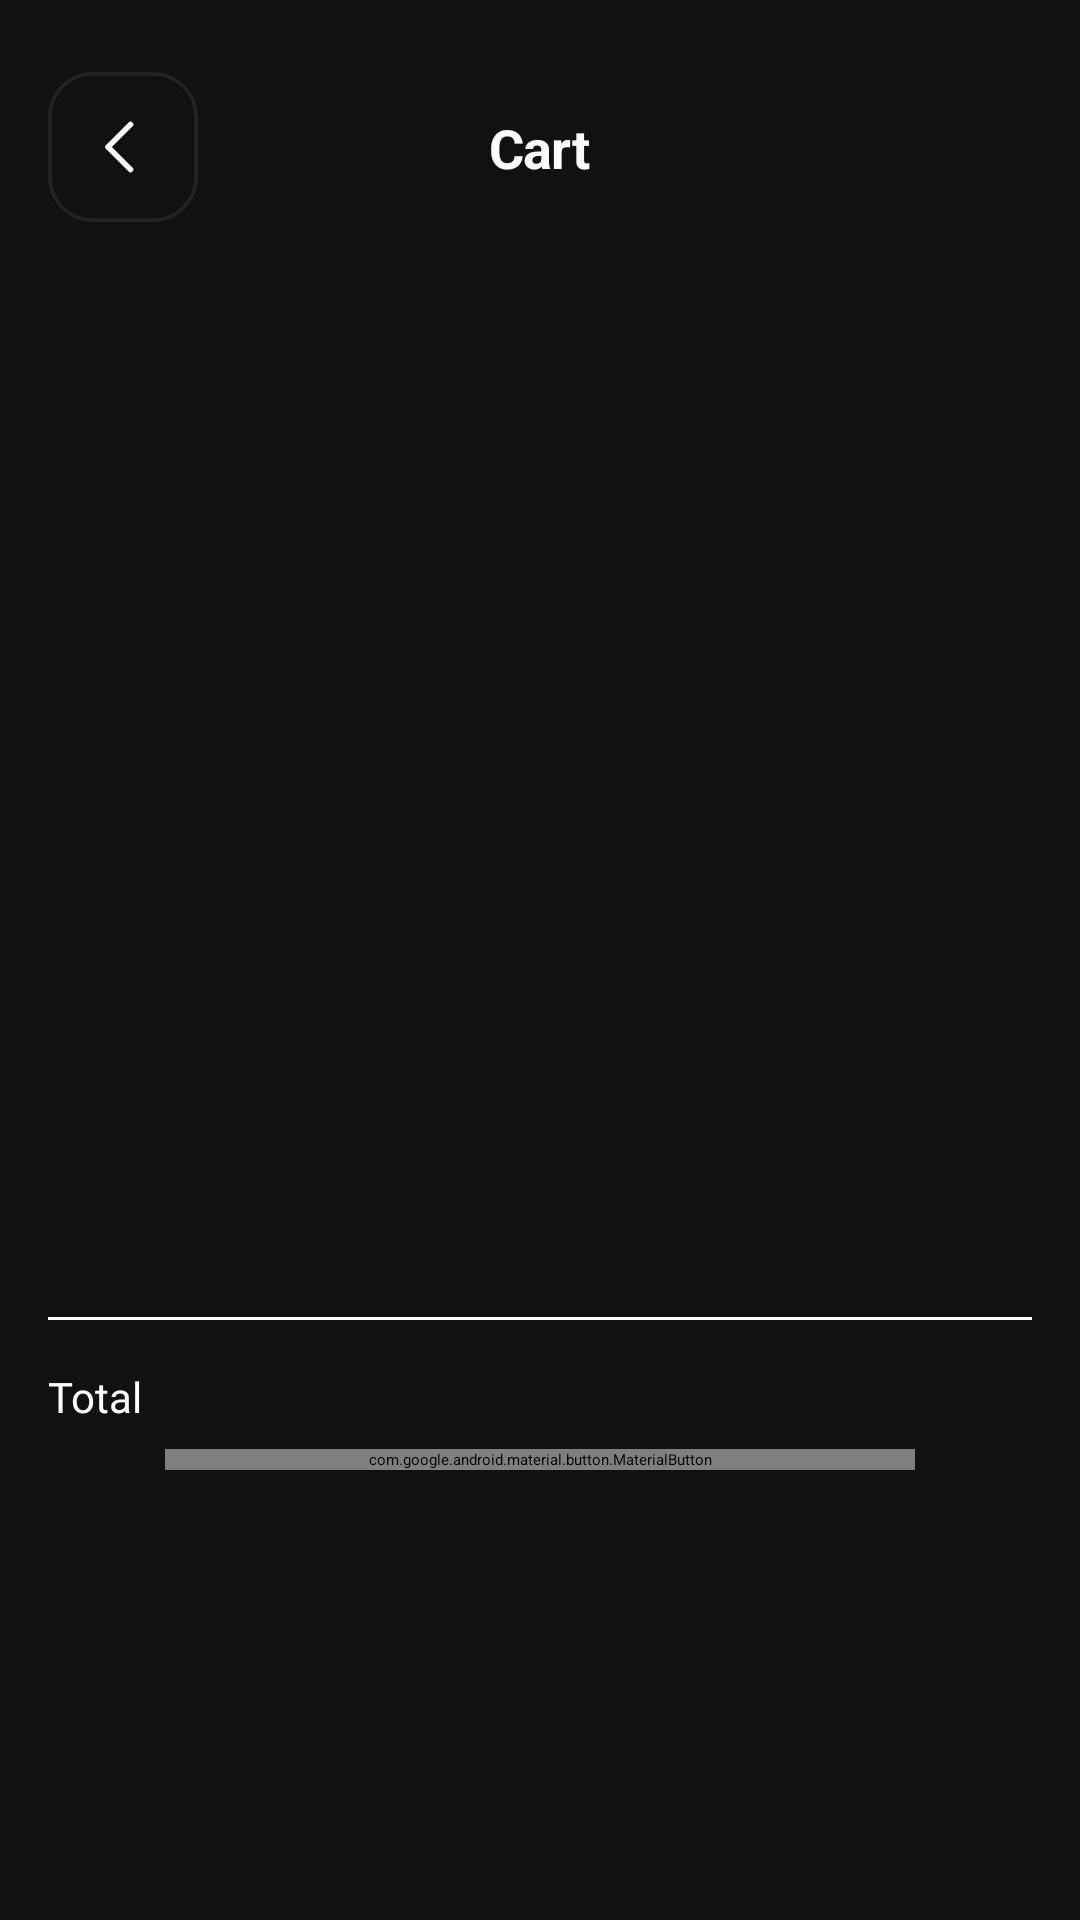

Screen size 1080*1920. Icon name, then its center in pixels as (x=x, y=y):
back: (x=119, y=147)
